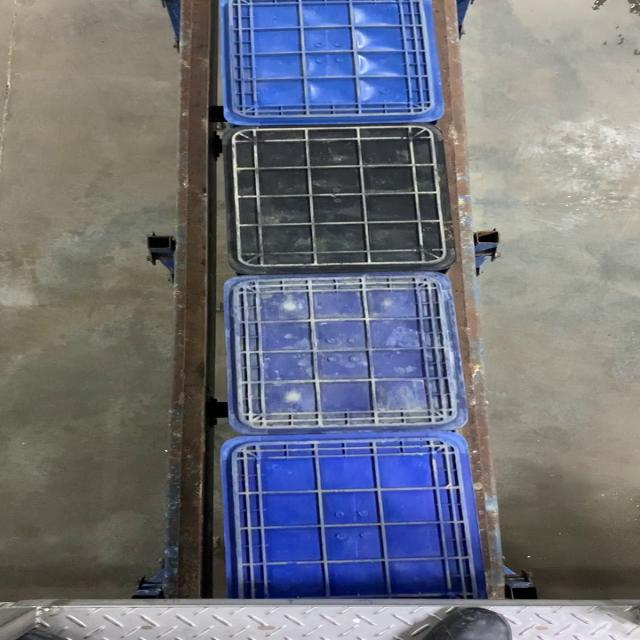Box: (222, 274, 476, 434), (221, 126, 458, 274)
